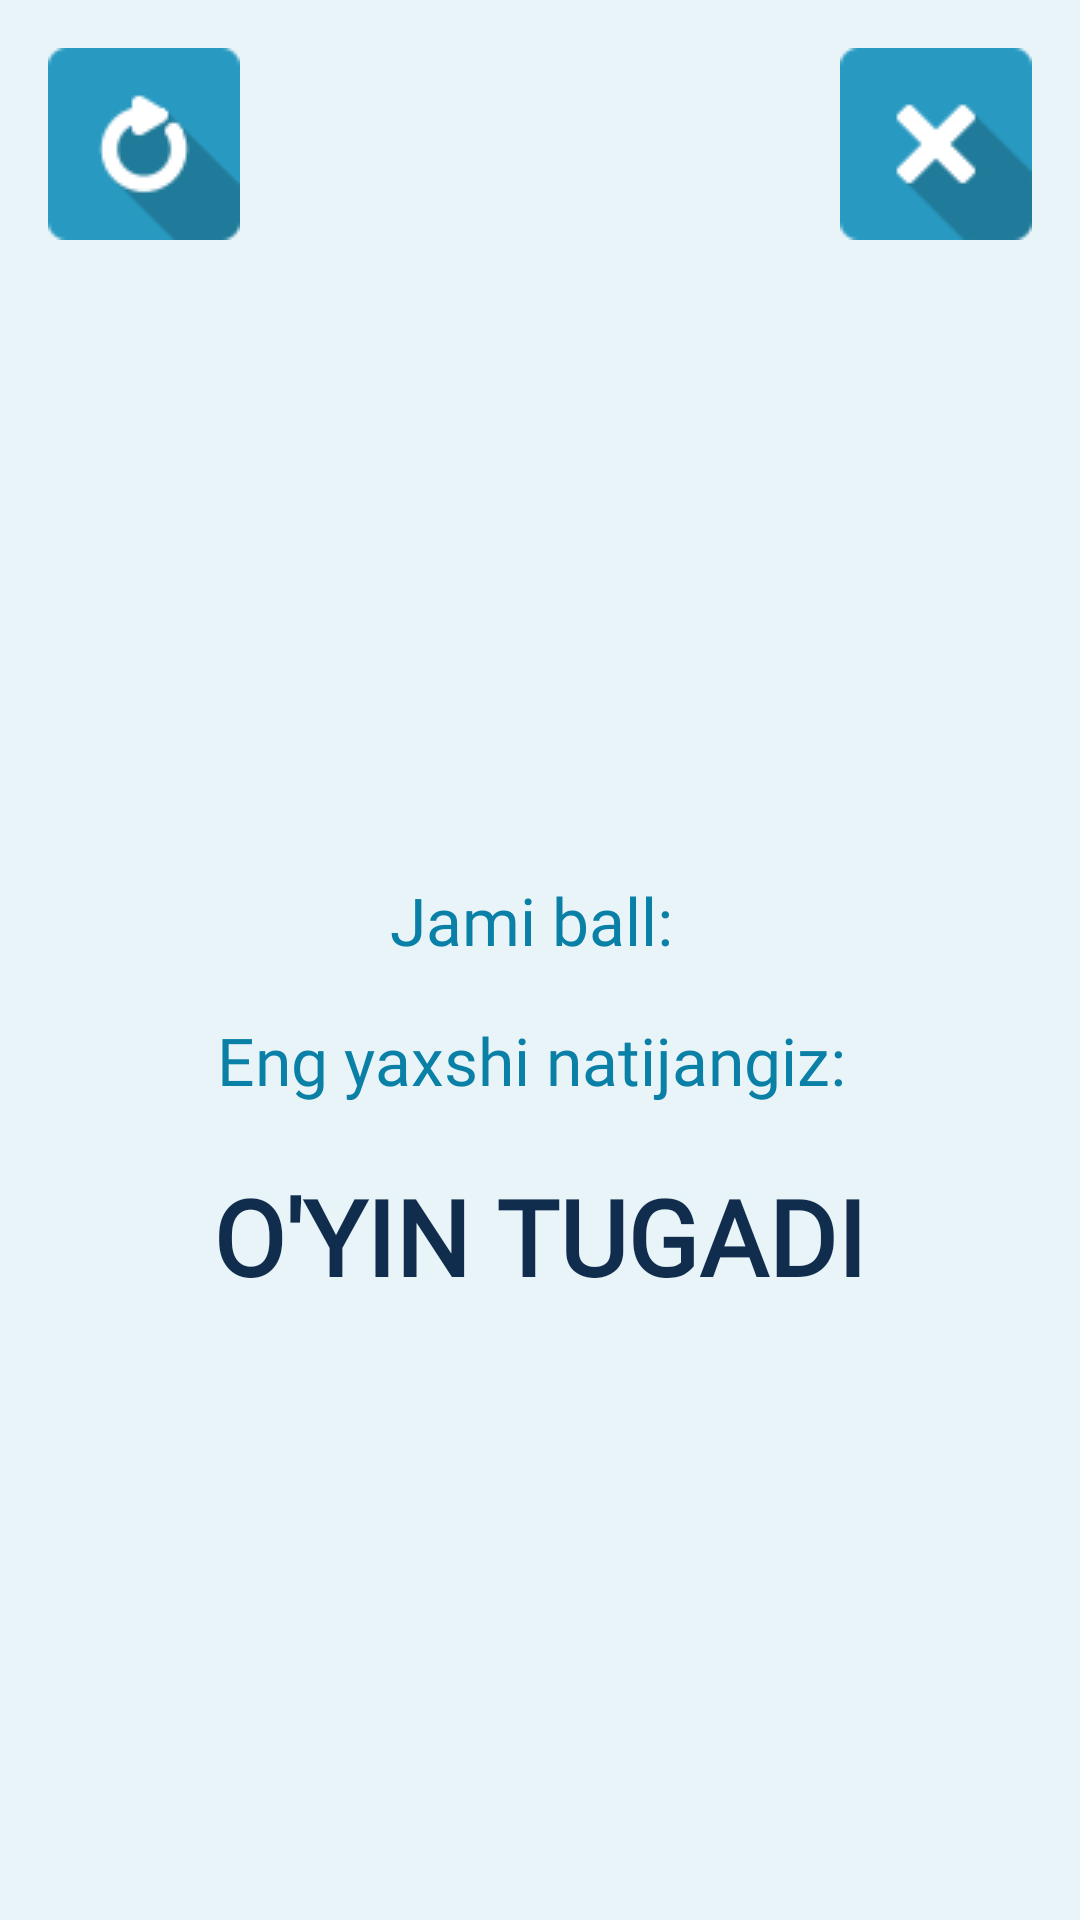

Locate icon controls on the screen. Image size 1080x1920, boxes as (x1, y1, x2, y2).
exit: (840, 48, 1032, 240)
restart: (48, 48, 240, 240)
